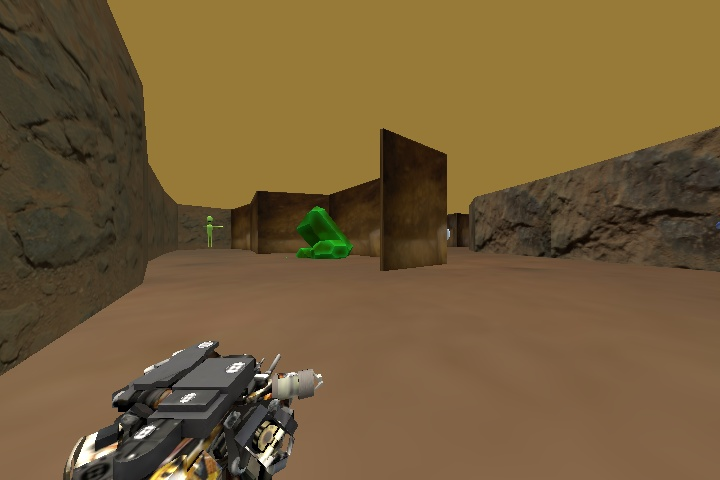alien: (201, 213, 226, 248)
gem: (295, 204, 353, 261)
